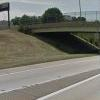Bridge: (17, 16, 100, 43)
